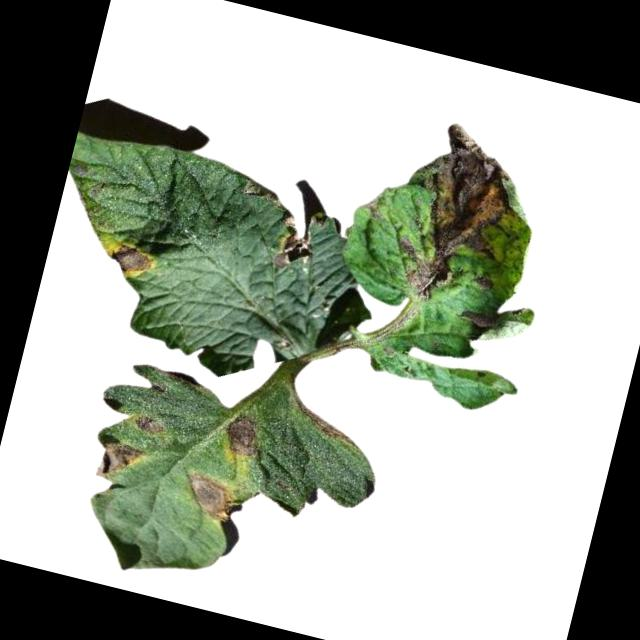Early_blight: (395, 115, 538, 315), (177, 467, 244, 526), (85, 430, 149, 487), (289, 398, 357, 446), (270, 210, 318, 275), (99, 237, 158, 282), (220, 412, 264, 461), (458, 306, 500, 334), (130, 410, 168, 438), (356, 196, 385, 223)
